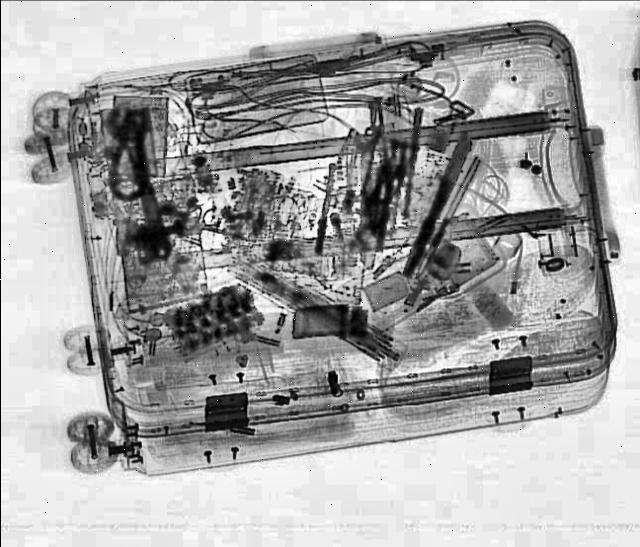Wrench: (104, 104, 186, 262), (351, 128, 384, 252)
